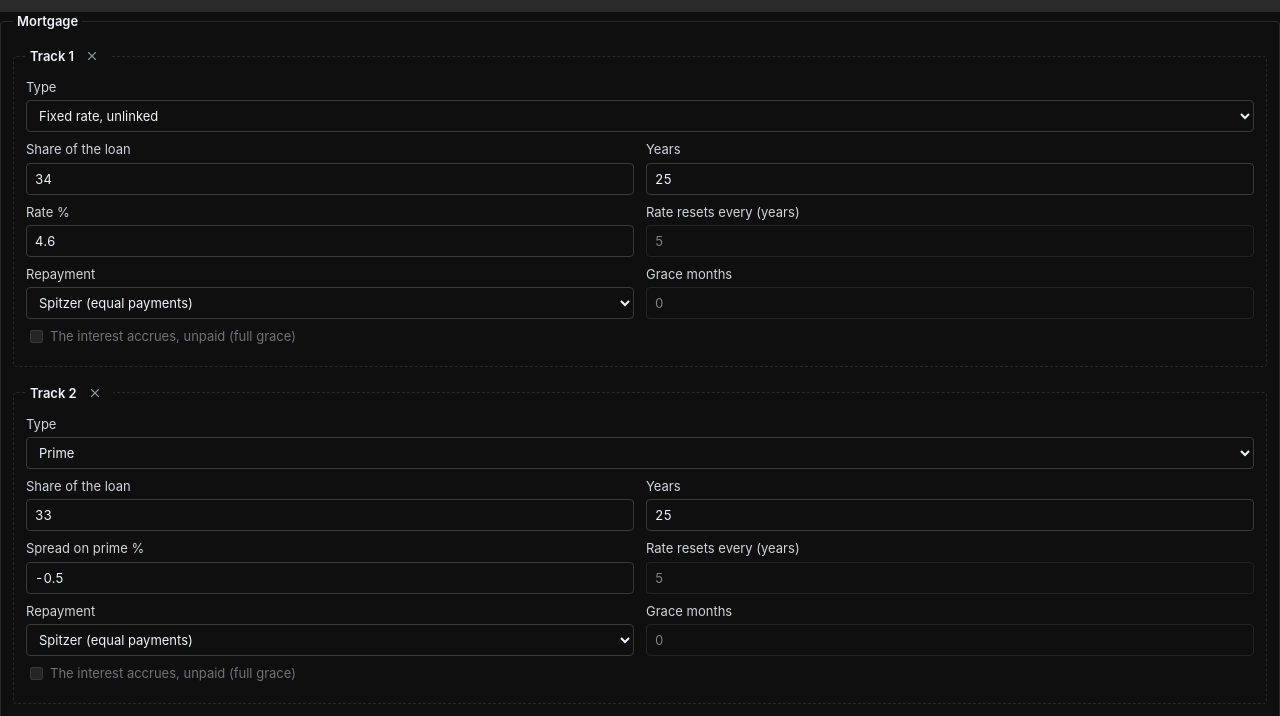
PlannerHomeTracks › enables the grace and reset fields only where they apply
Expected: the number field named "Track 1 grace months" is disabled, [646, 287, 1254, 319]
Expected: the checkbox named "Track 1: the interest accrues" is disabled, [30, 330, 43, 343]
Select "Grace, then Spitzer" in the dropdown named "Track 1 repayment" at (330, 303), box [26, 287, 634, 319]
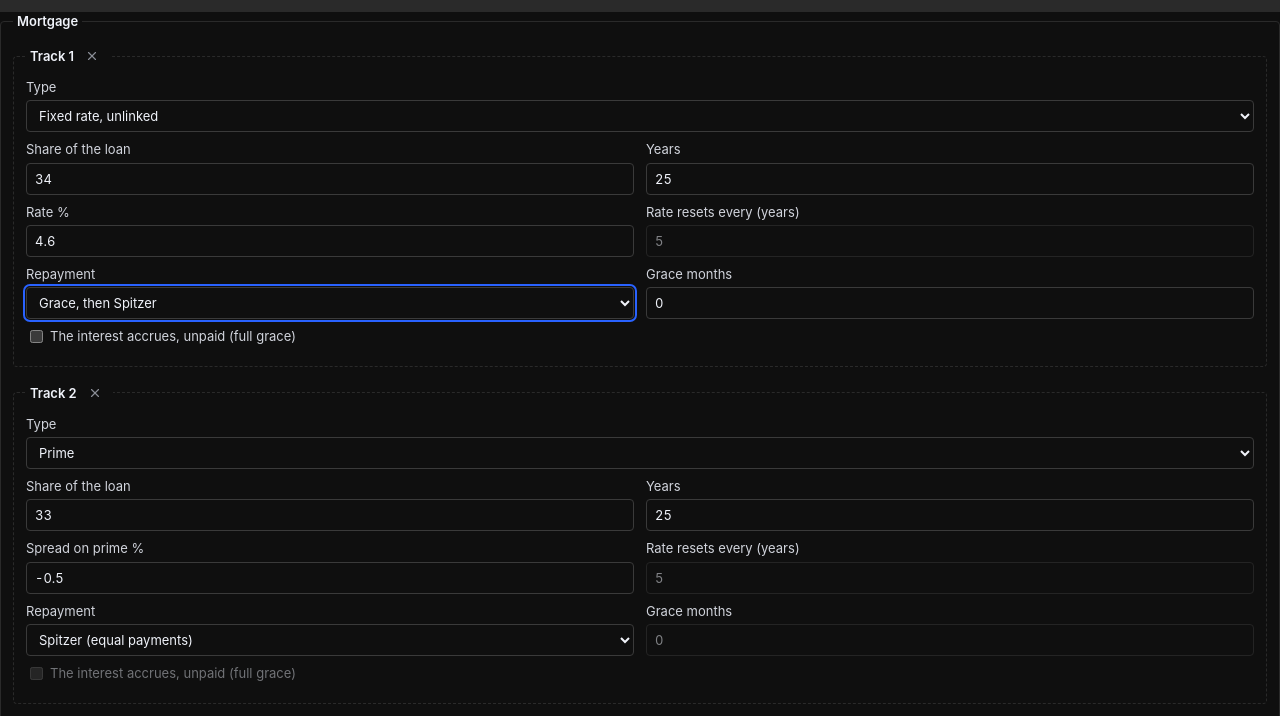
Expected: the number field named "Track 1 grace months" is enabled, [646, 287, 1254, 319]
Expected: the checkbox named "Track 1: the interest accrues" is enabled, [30, 330, 43, 343]
Select "Balloon (all at the end)" in the dropdown named "Track 1 repayment" at (330, 303), box [26, 287, 634, 319]
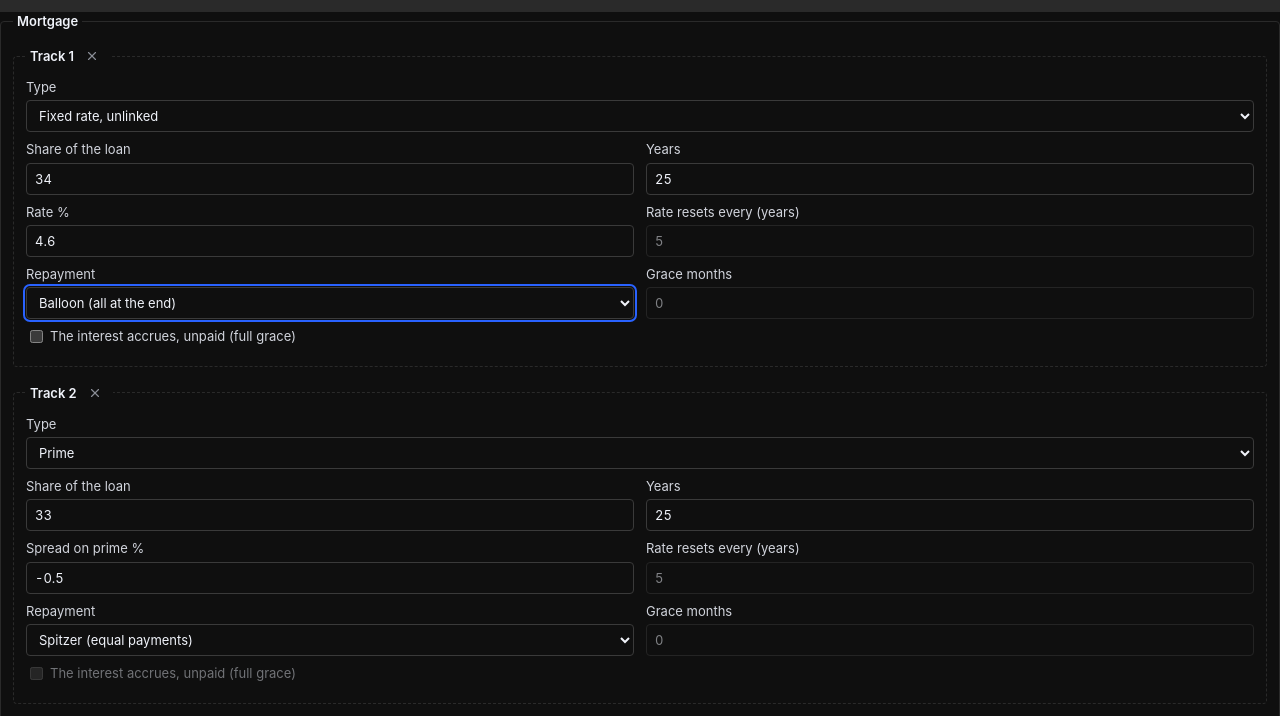
Expected: the checkbox named "Track 1: the interest accrues" is enabled, [30, 330, 43, 343]
Expected: the number field named "Track 1 grace months" is disabled, [646, 287, 1254, 319]
